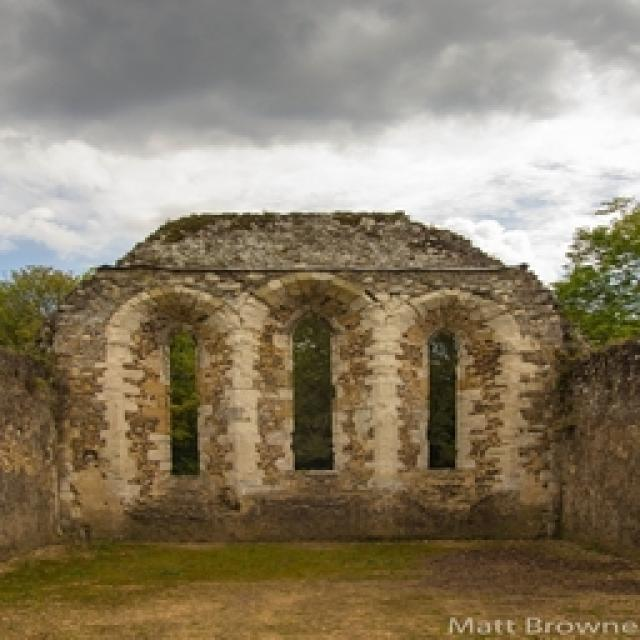Abbey: (126, 282, 518, 517)
